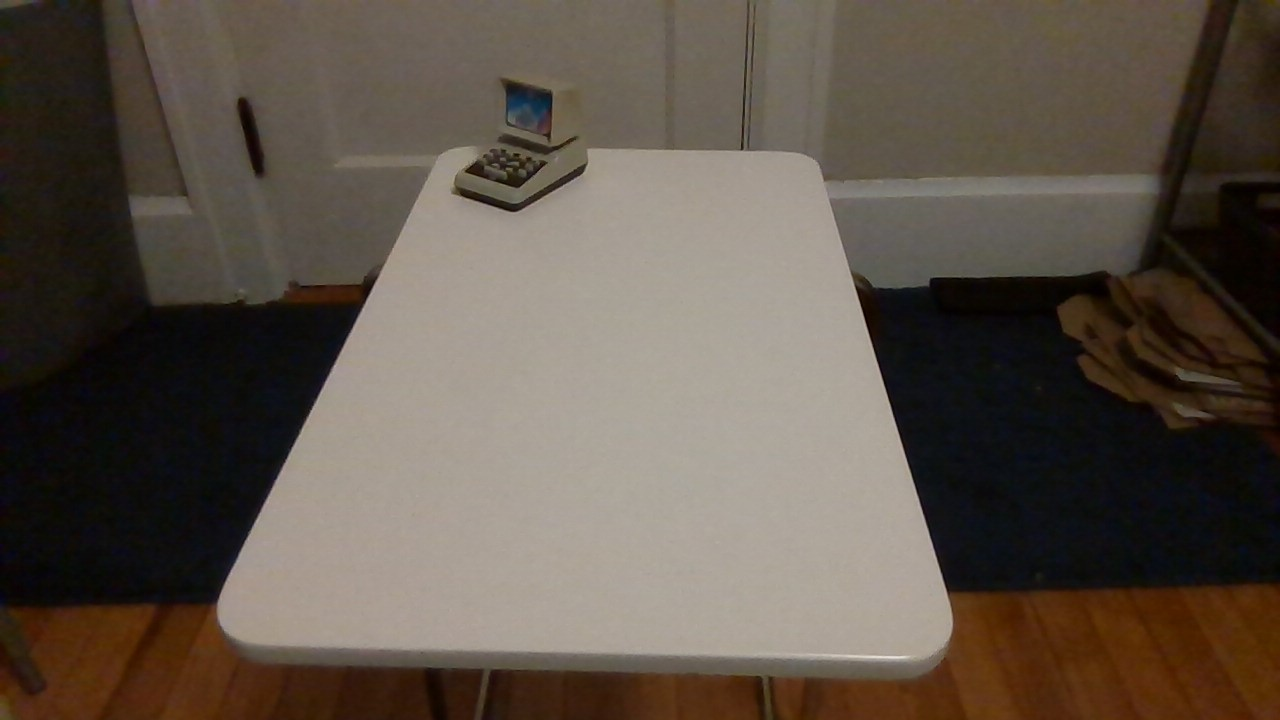Toy: (441, 59, 606, 227)
